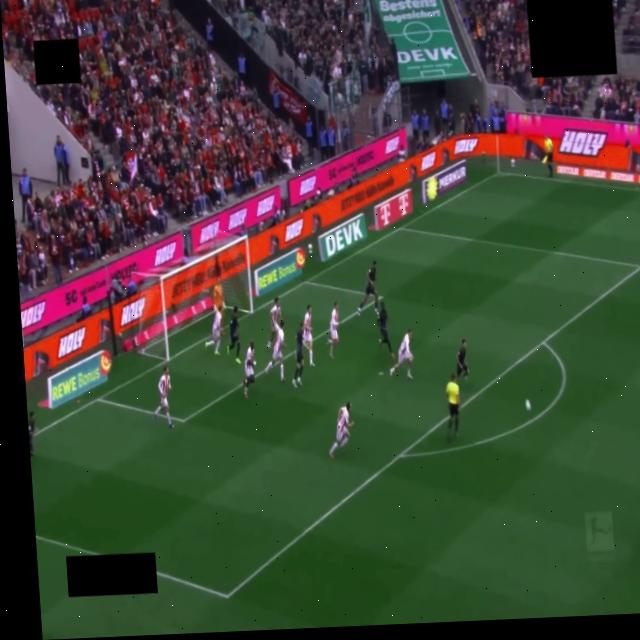ball: (525, 400, 531, 411)
player: (265, 321, 285, 383), (330, 402, 352, 458), (154, 366, 173, 428), (390, 329, 413, 379), (358, 261, 378, 314), (378, 301, 394, 358), (227, 306, 241, 363), (205, 309, 222, 355), (292, 323, 304, 387), (267, 298, 281, 348), (243, 342, 255, 397), (328, 302, 339, 359), (303, 305, 313, 366), (456, 339, 468, 379), (211, 277, 225, 310), (28, 411, 37, 456)
referee: (446, 374, 460, 439)
